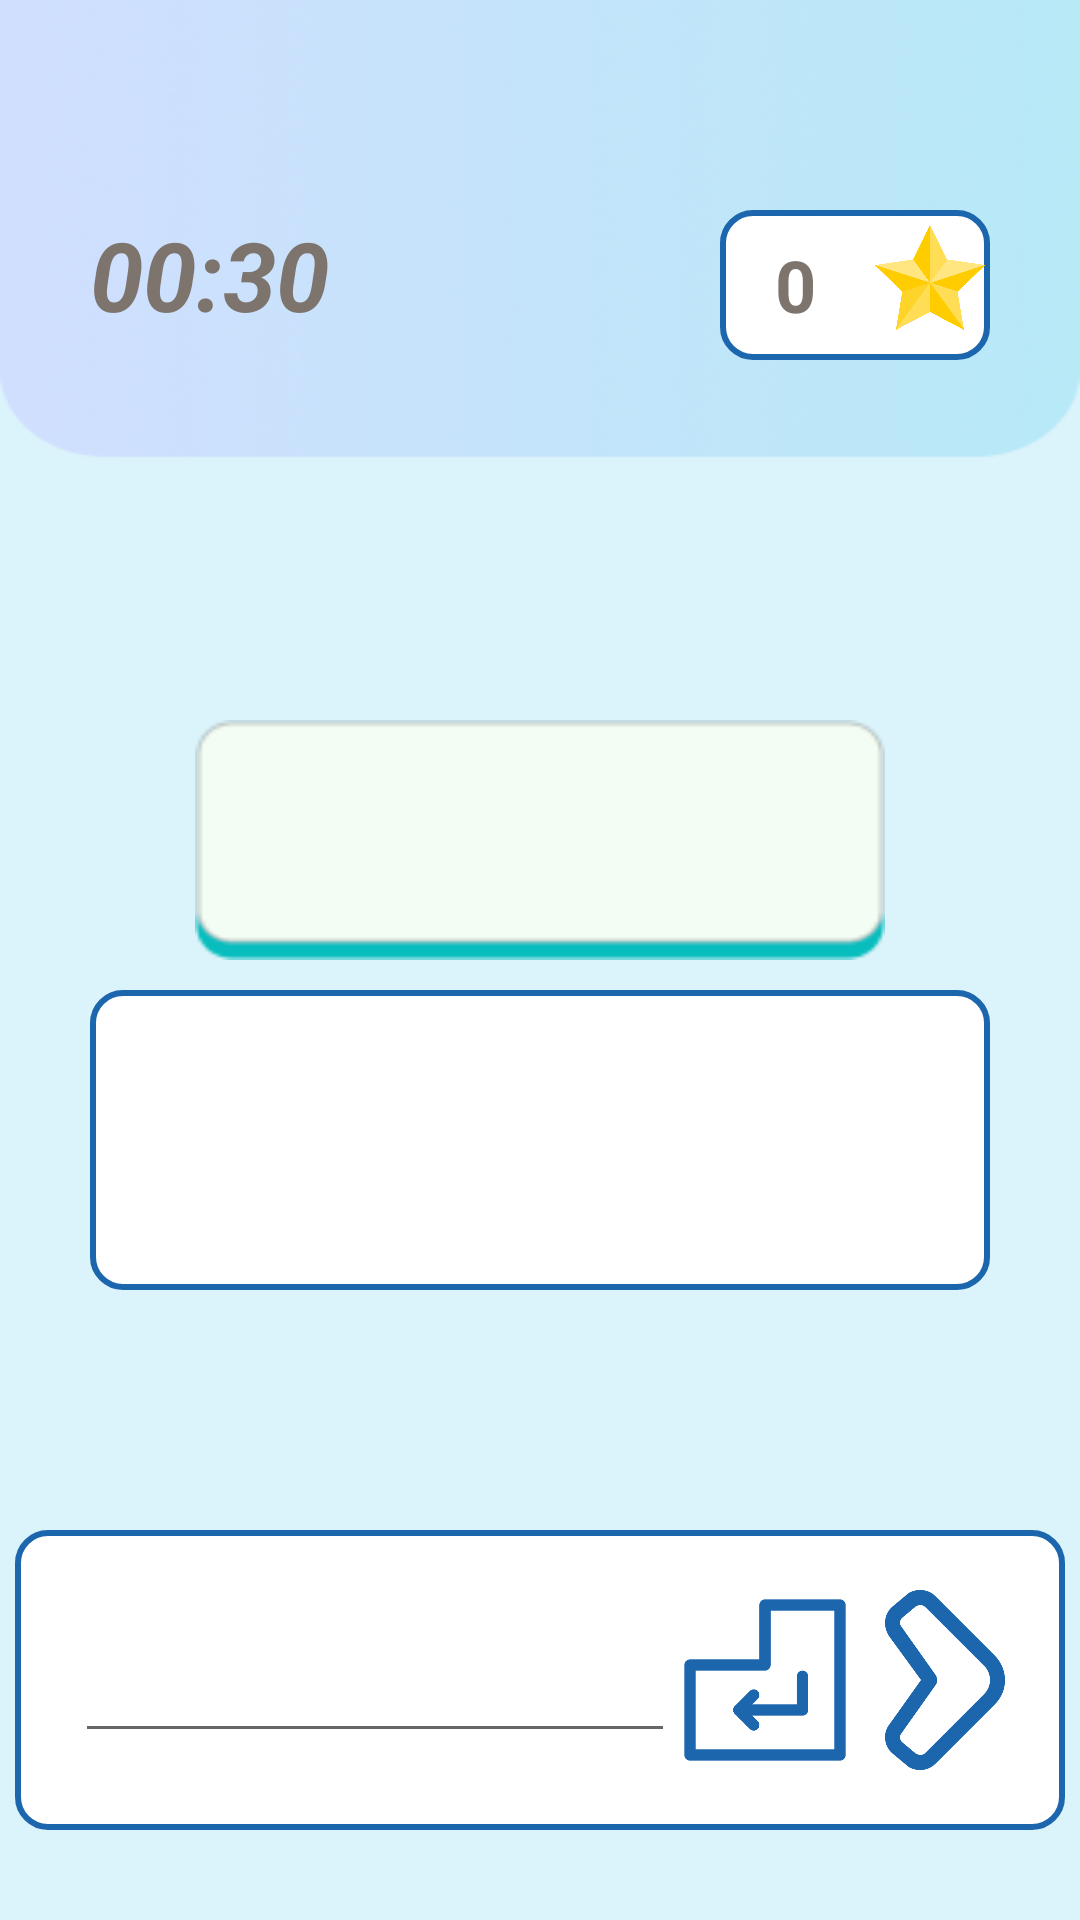

Point at icon controls on the screen. Image size 1080px×1920px, points as [x,y].
enter: [765,1680]
skip: [945,1680]
star: [930,270]
